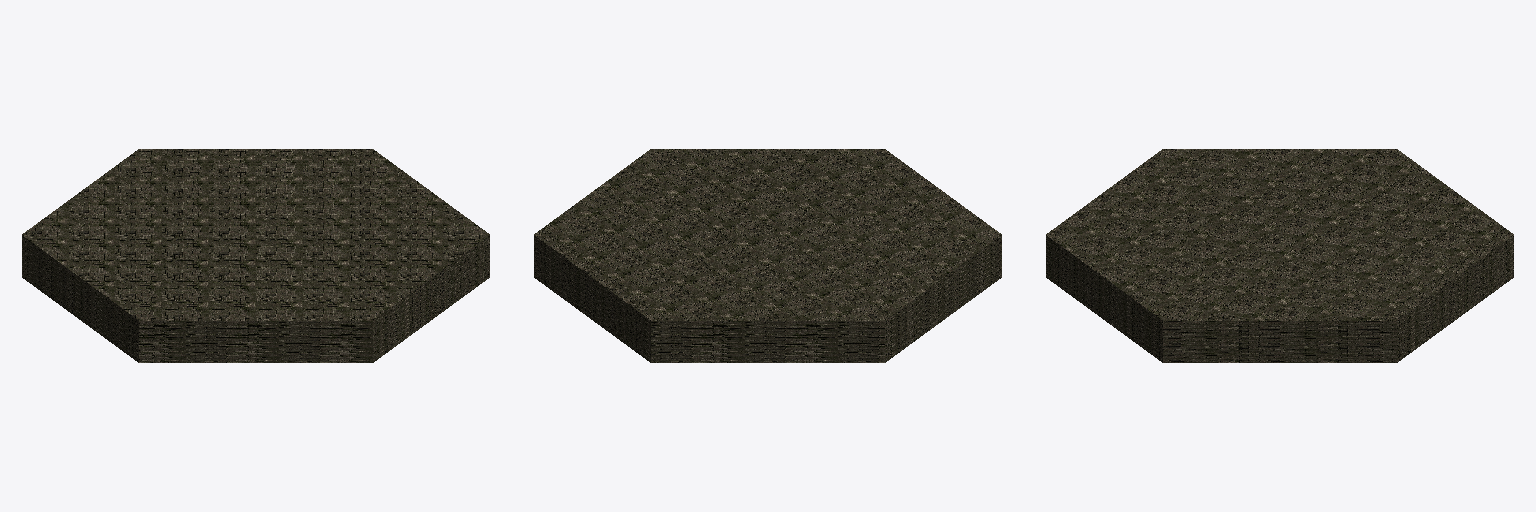
3 views of the same model, side by side, from view 1: azimuth 30°, elevation 25°; view 2: azimuth 150°, elevation 25°; view 3: azimuth 270°, elevation 25° (orthographic).
Visible parts, largest first — view 1: Cylinder; view 2: Cylinder; view 3: Cylinder.
Boxes of the visible parts, x1=… form: Cylinder: x1=22, y1=149, x2=489, y2=362; Cylinder: x1=534, y1=149, x2=1001, y2=362; Cylinder: x1=1046, y1=149, x2=1513, y2=362.
Bounding box in the file's own units: 1.73 × 0.2 × 2.
1 materials, 1 textured.